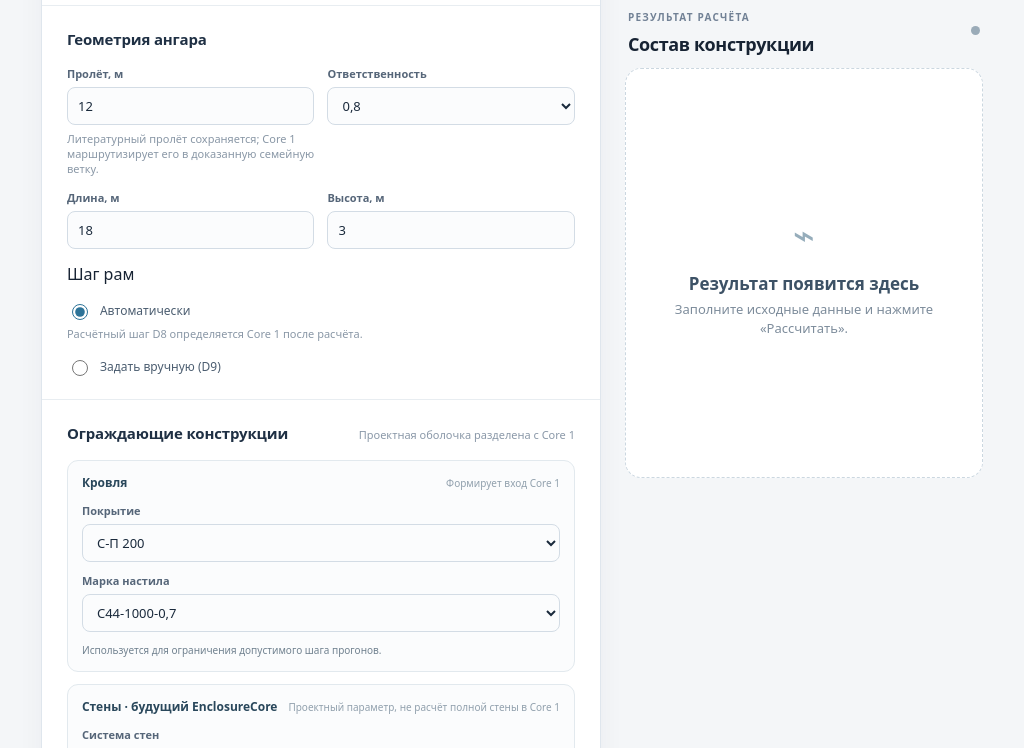
Test case: Sprint M calculator UI › separates automatic D8, manual D9, effective step, and frame count
(page scrolled)
Check: the text "Расчётный шаг D8 определяется Core 1 после расчёта." is shown, box top-left (67, 326), bottom-right (363, 341)
What coordinates should you click on to do the following:
click the radio button labelled "Задать вручную (D9)"
I would click on:
 (80, 368)
Its box is top-left (72, 360), bottom-right (88, 376).
(page scrolled)
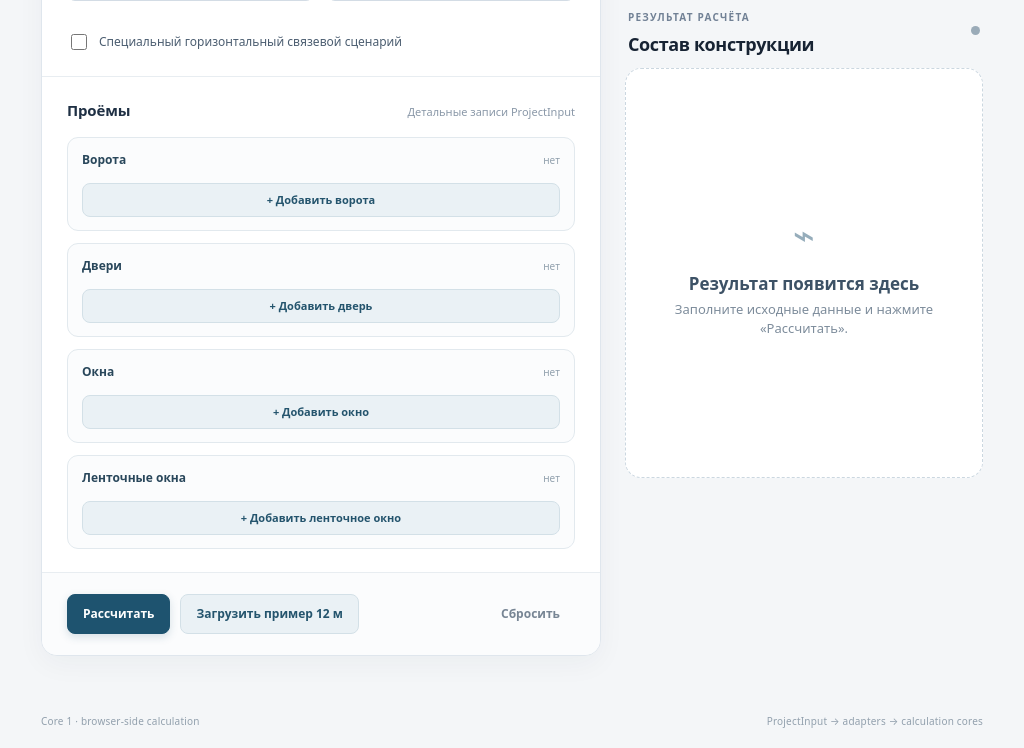
What coordinates should you click on to do the following:
click the button "Рассчитать"
I would click on:
 (119, 614)
Its box is top-left (67, 594), bottom-right (170, 634).
(page scrolled)
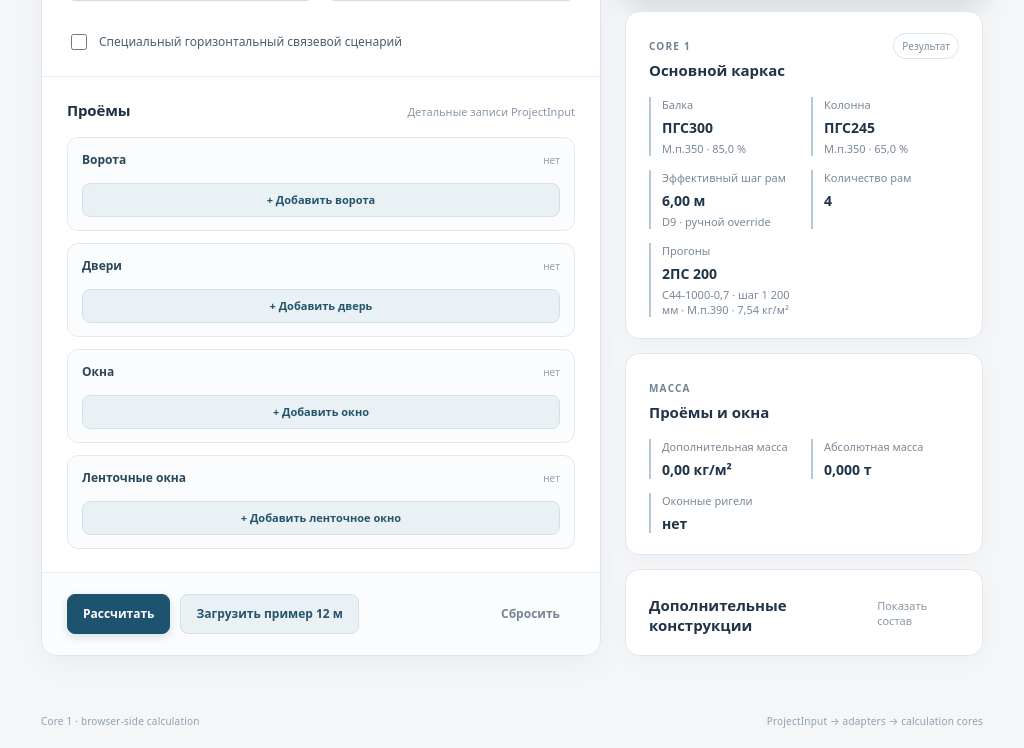
Check: the text "Эффективный шаг рам" is shown, box top-left (662, 170), bottom-right (797, 185)
Check: the text "D9 · ручной override" is shown, box top-left (662, 214), bottom-right (771, 229)
Check: the text "Количество рам" is shown, box top-left (824, 170), bottom-right (911, 185)
